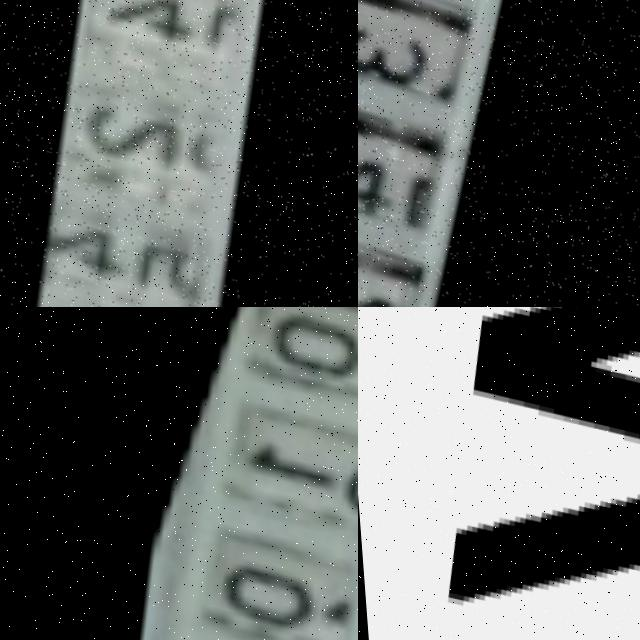0: (196, 535, 327, 640), (249, 307, 358, 386)
1: (228, 421, 342, 505)
2: (65, 86, 178, 181)
3: (358, 0, 437, 91)
4: (37, 199, 127, 281), (88, 0, 207, 56), (358, 119, 405, 224)
W: (387, 307, 640, 640)
